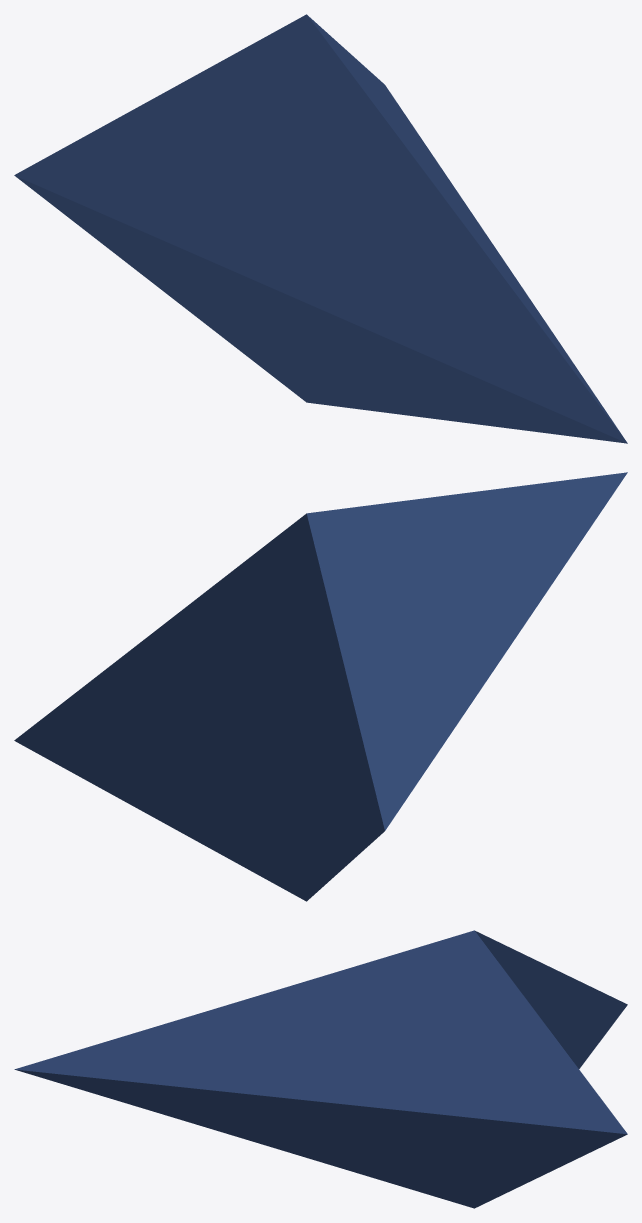
The model's file is MithrilArrowheadStack1.glb.
The picture shows the model from 3 angles, top to bottom: view 1: azimuth 30°, elevation 25°; view 2: azimuth 150°, elevation 25°; view 3: azimuth 270°, elevation 25°; orthographic projection. The views are drawn at different scales.
Visible parts, largest first — view 1: MithrilArrowheadStack1; view 2: MithrilArrowheadStack1; view 3: MithrilArrowheadStack1.
Boxes of the visible parts, bbox=[...] form: MithrilArrowheadStack1: bbox=[14, 14, 627, 443]; MithrilArrowheadStack1: bbox=[14, 472, 627, 901]; MithrilArrowheadStack1: bbox=[14, 930, 627, 1208].
Bounding box in the file's own units: 0.0506 × 0.0506 × 0.1011.
